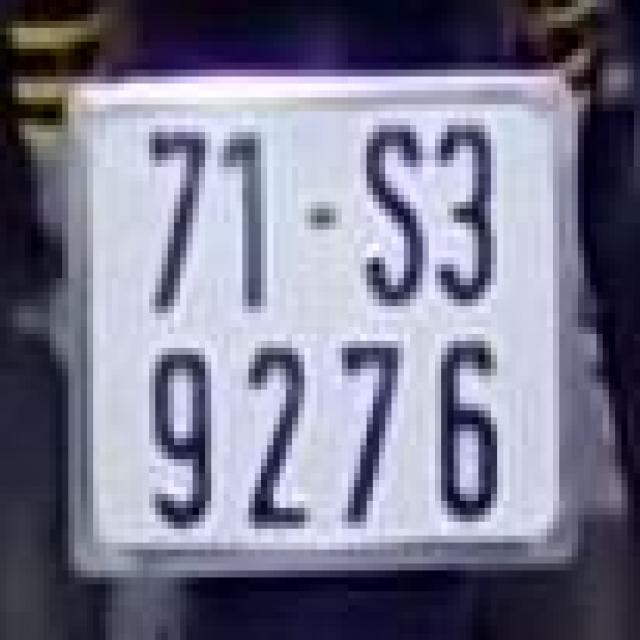1: (211, 111, 292, 327)
2: (227, 334, 314, 529)
3: (432, 104, 500, 313)
6: (426, 320, 512, 529)
7: (332, 331, 413, 532), (140, 118, 208, 320)
9: (143, 327, 224, 536)
S: (348, 111, 429, 306)
